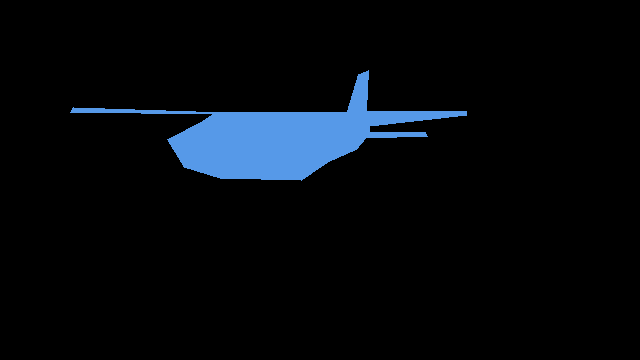Airplane: (70, 70, 467, 180)
